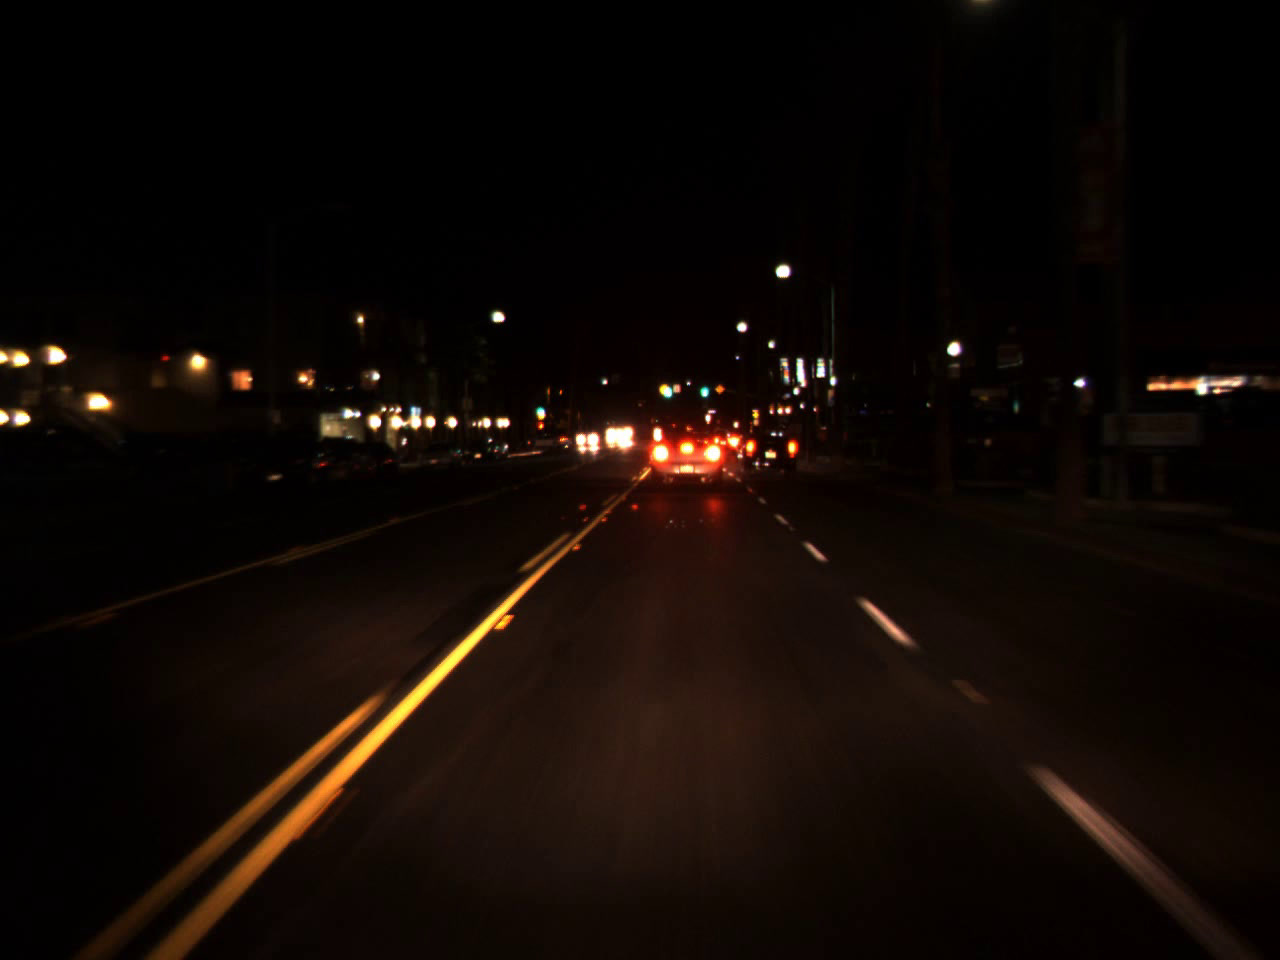go: (659, 378, 671, 402), (699, 377, 709, 398), (534, 402, 544, 414)
